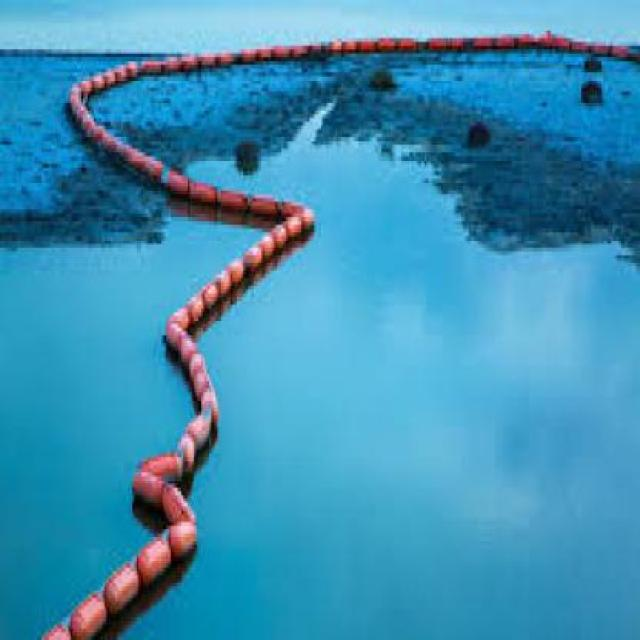a: (46, 39, 317, 306), (127, 306, 223, 584)
